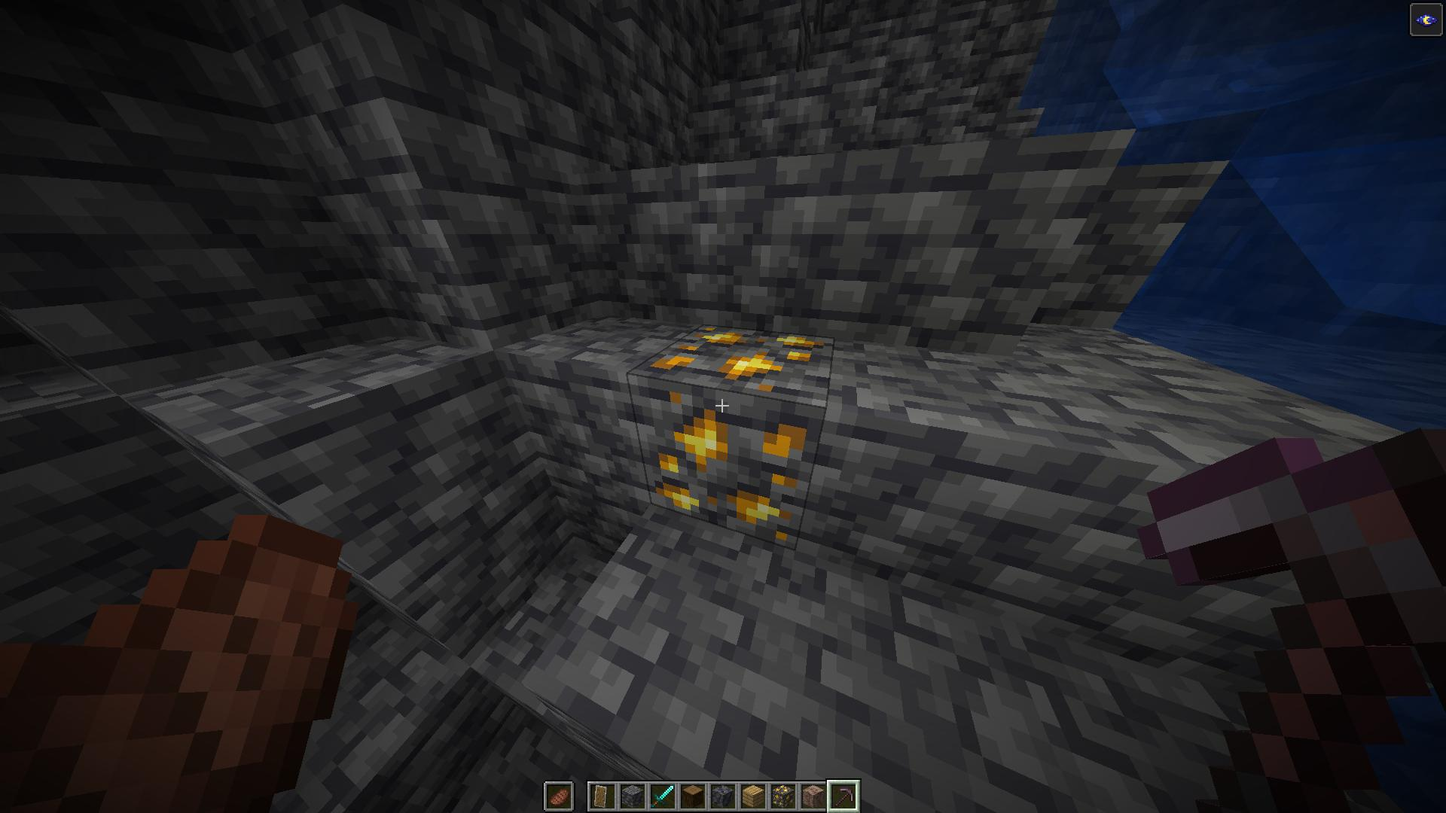gold ore: (633, 316, 835, 551)
